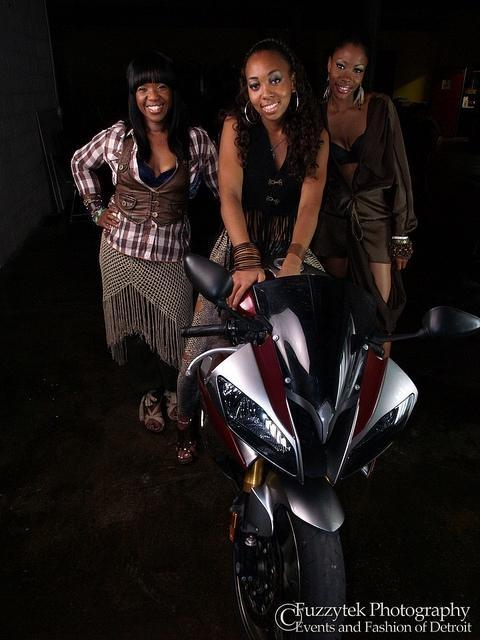motorcycle: (177, 254, 420, 634)
